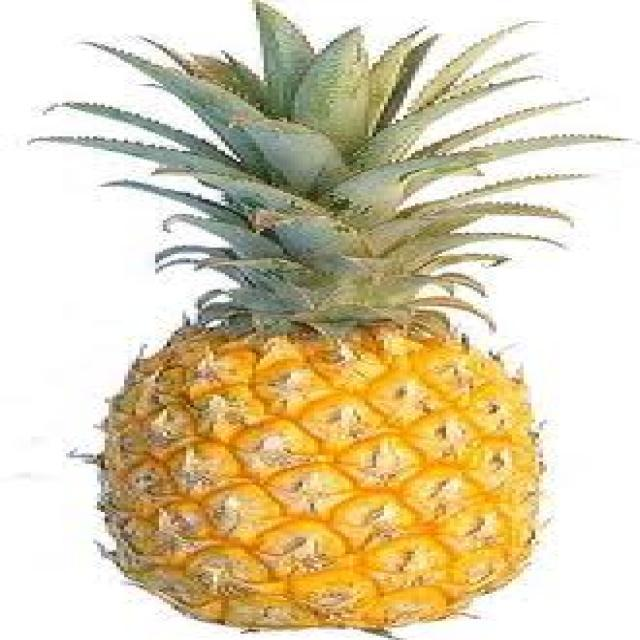Pineapple: (31, 8, 636, 640)
